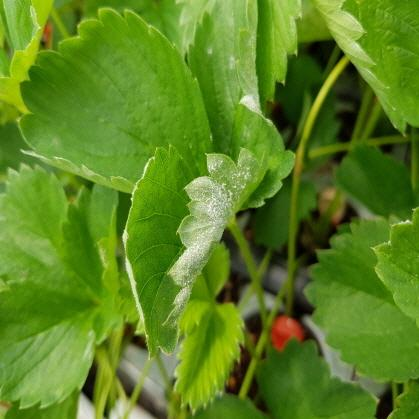Powdery Mildew Leaf: (122, 142, 270, 359), (185, 0, 297, 213)
